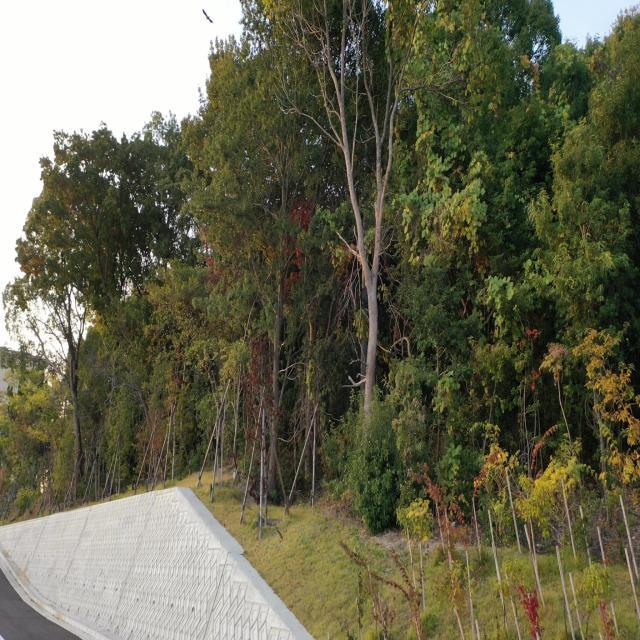Birds: (194, 2, 222, 40)
